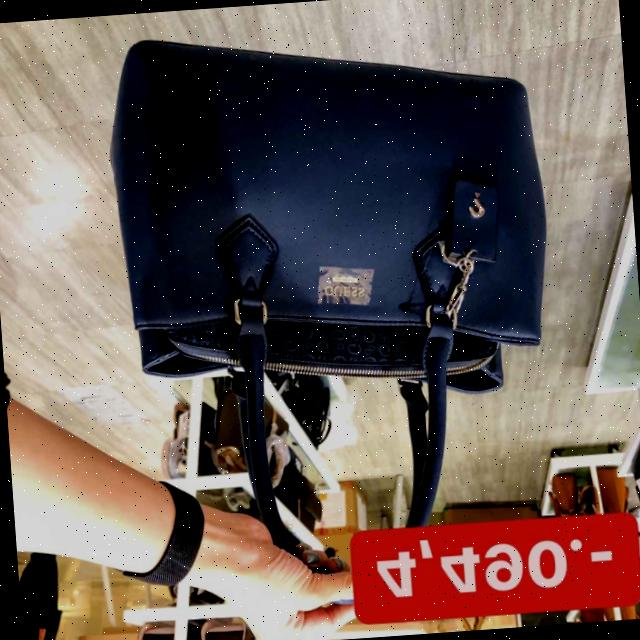handbag: (102, 11, 562, 452)
